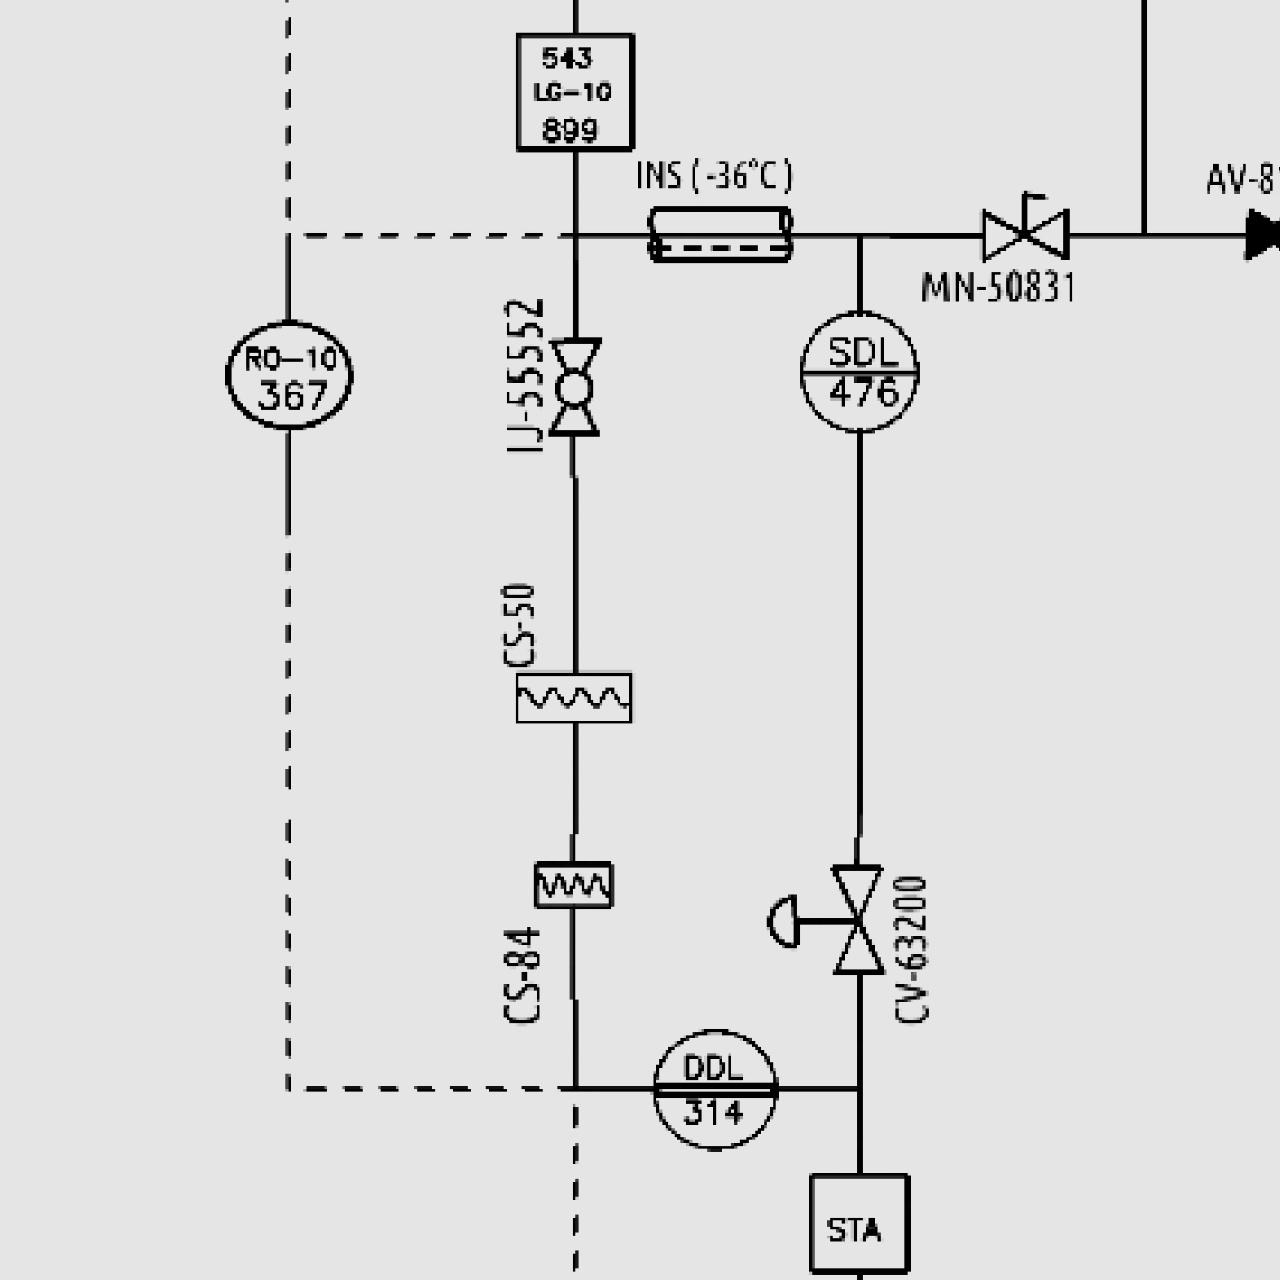Control-Panel: (646, 1021, 782, 1156), (220, 307, 356, 442)
